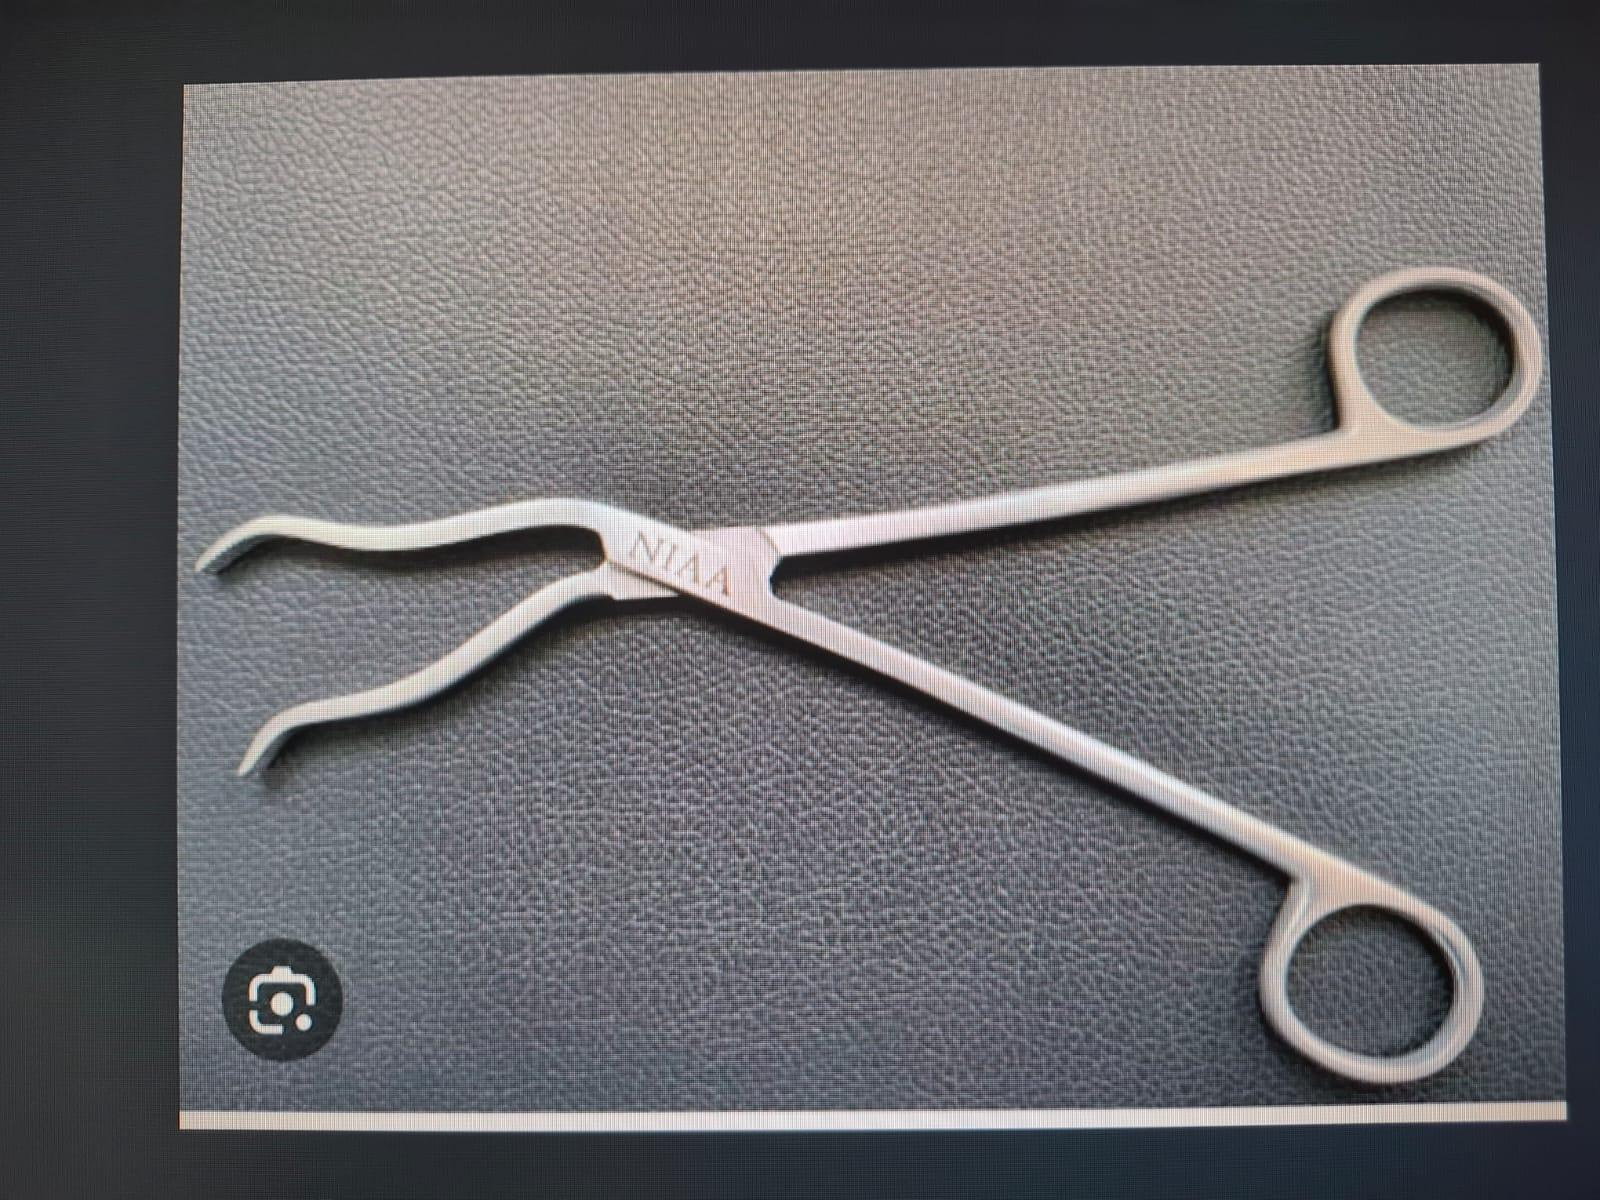Cheatle Forceps: (197, 246, 1550, 1100)
